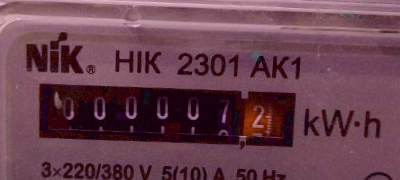0: (58, 92, 77, 120), (152, 92, 171, 120), (121, 91, 139, 120), (90, 92, 108, 120), (184, 93, 201, 122)
2: (249, 102, 266, 129)
7: (215, 94, 232, 125)
screen: (23, 69, 307, 158)
